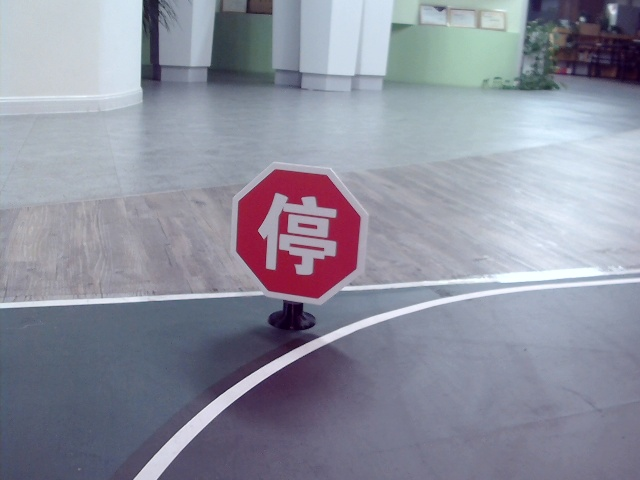stop: (257, 190, 338, 276)
